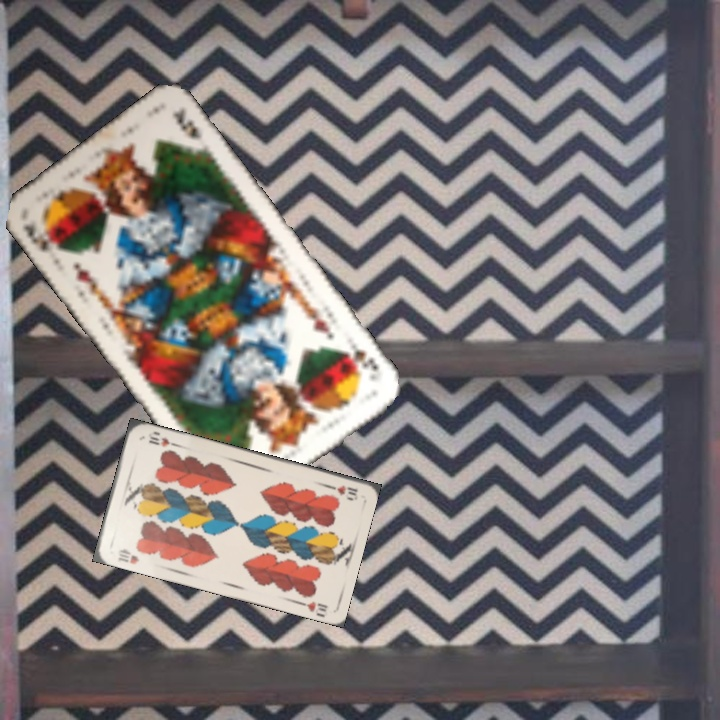H10: (322, 480, 360, 502), (114, 544, 142, 567)
SK: (18, 219, 67, 256), (340, 336, 382, 377)
